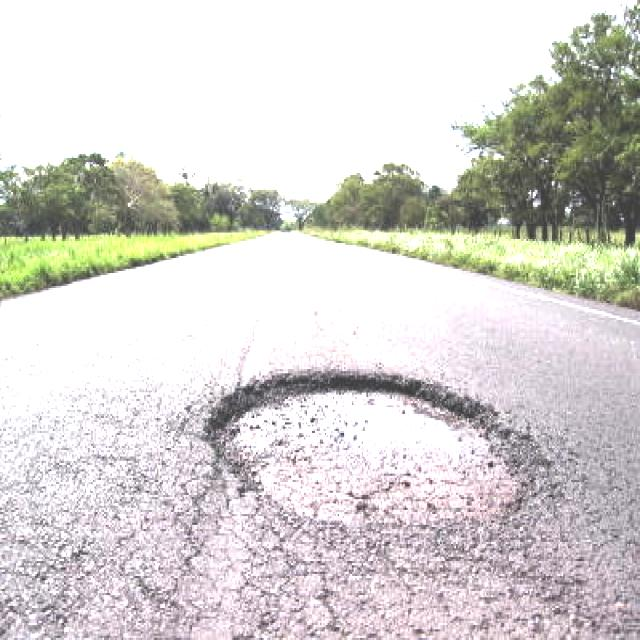Pothole: (197, 365, 556, 538)
